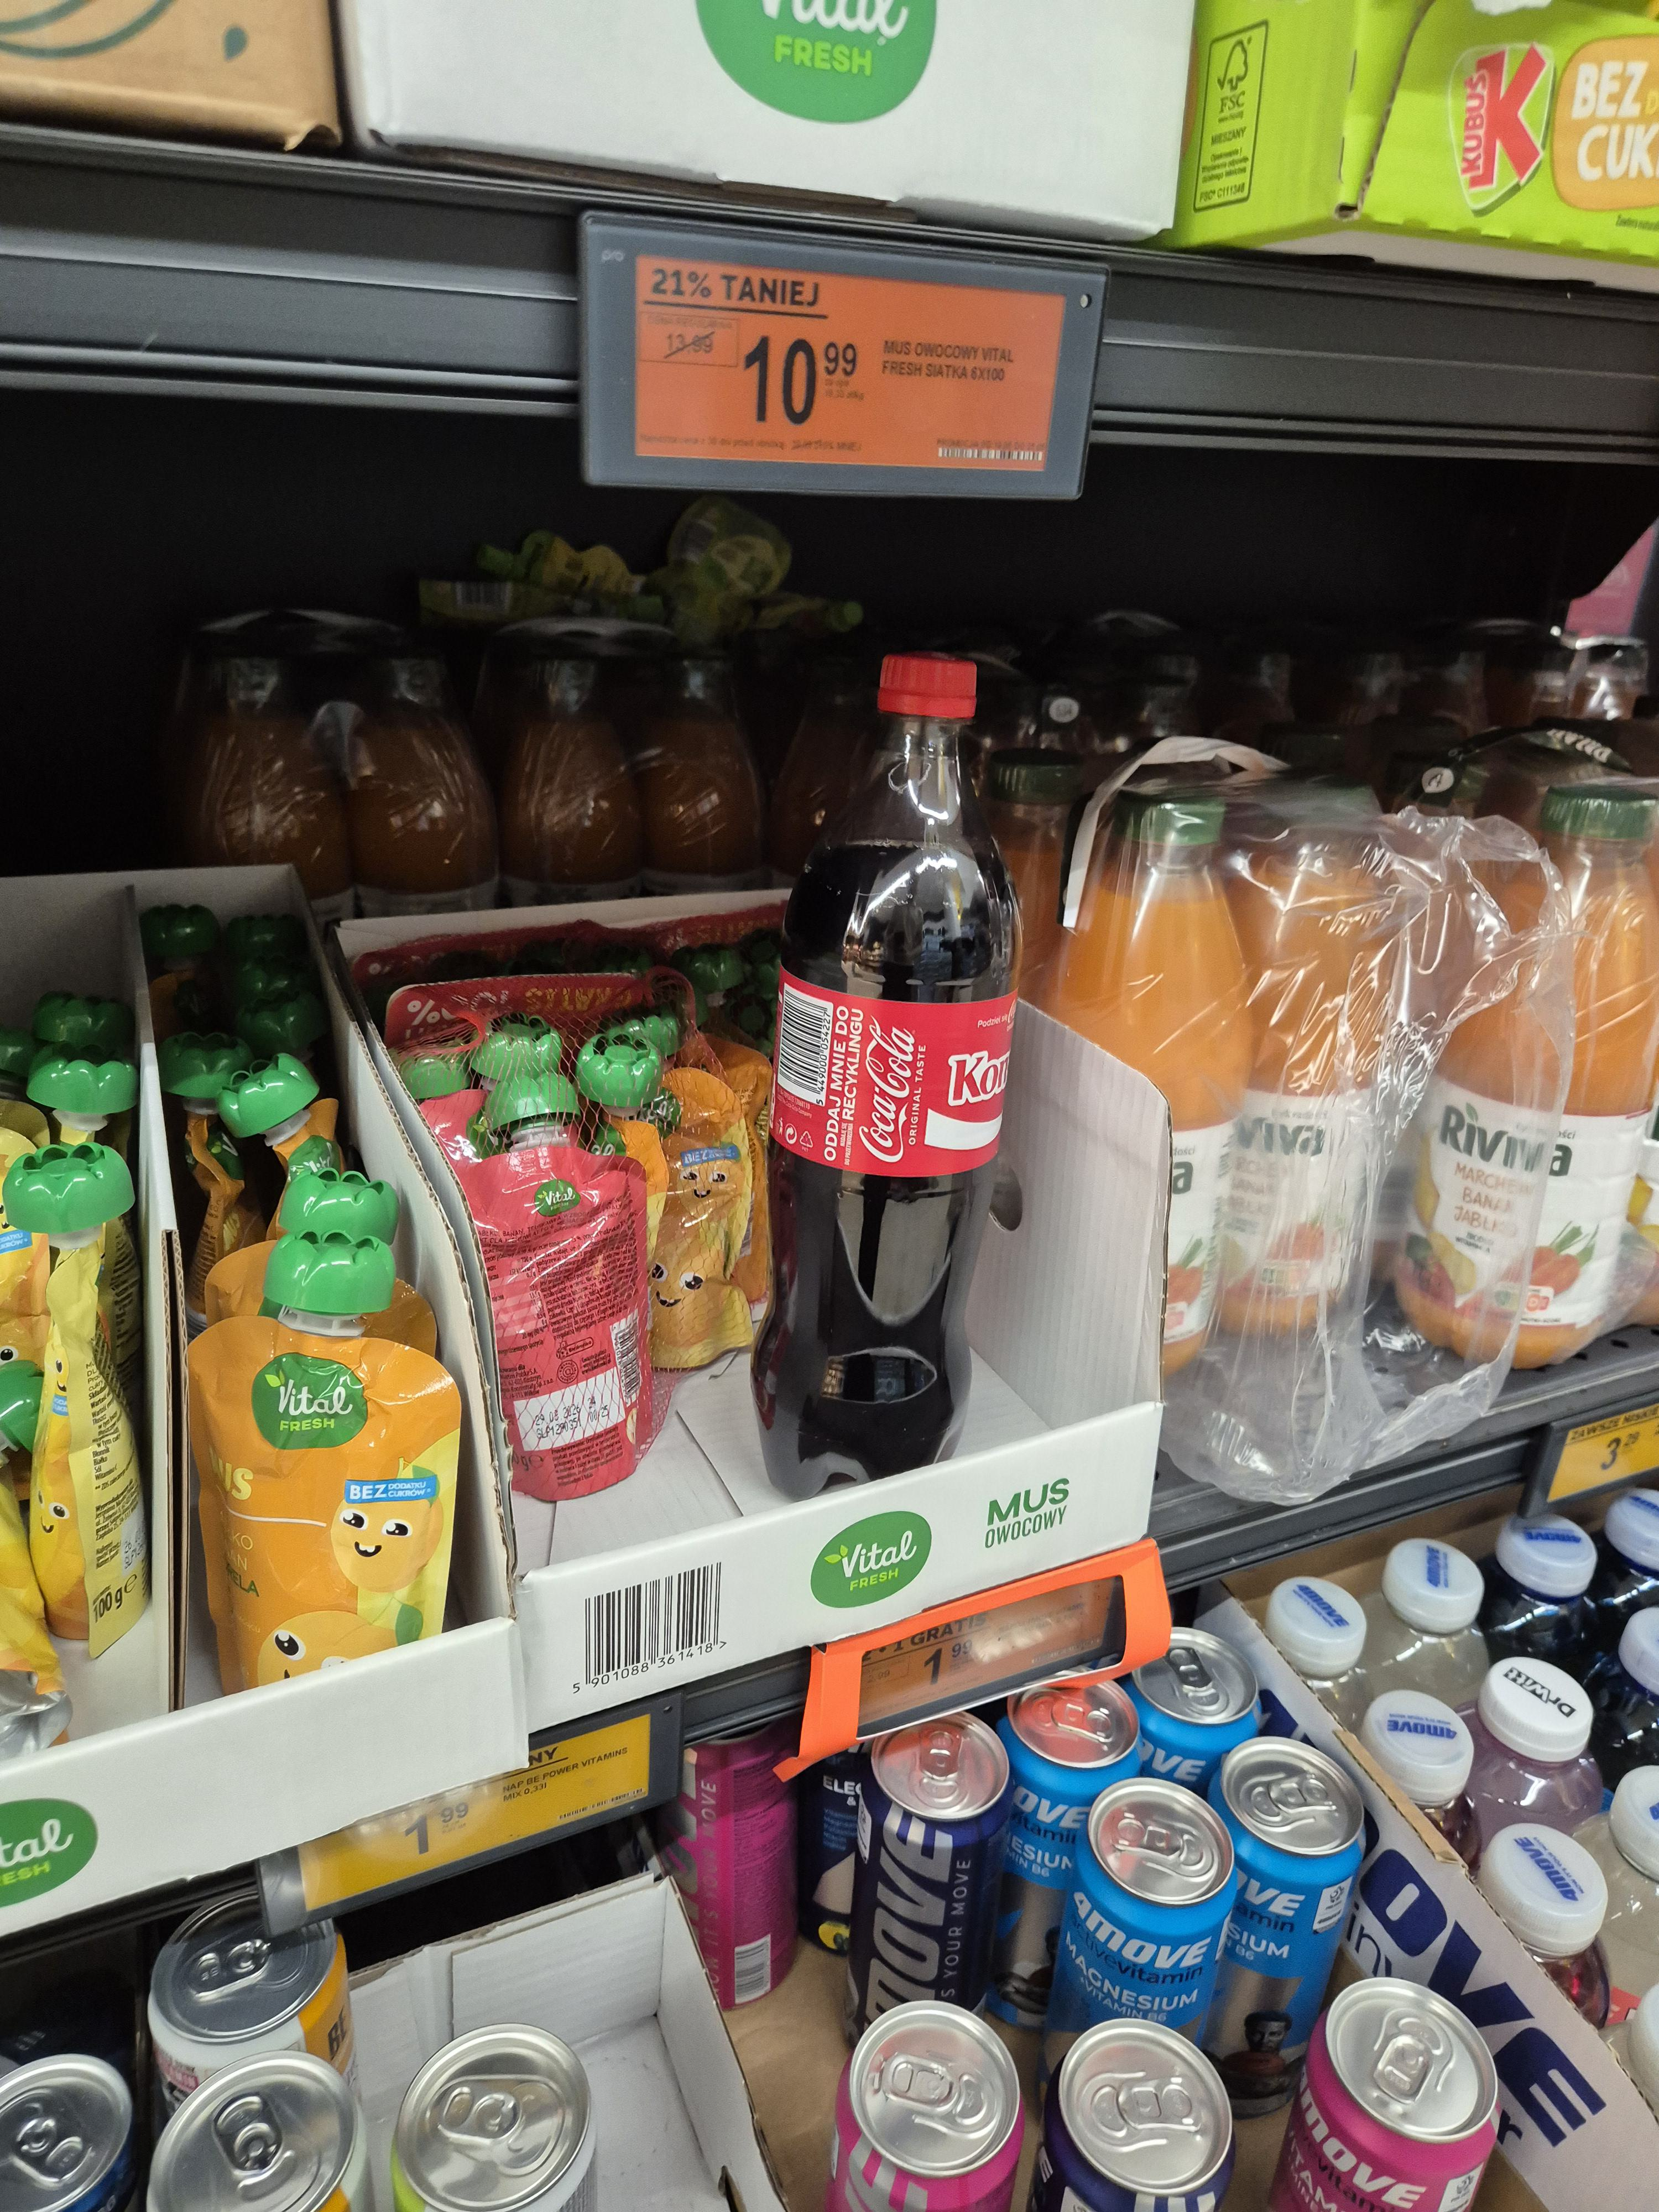Coca Cola: (758, 634, 1019, 1498)
